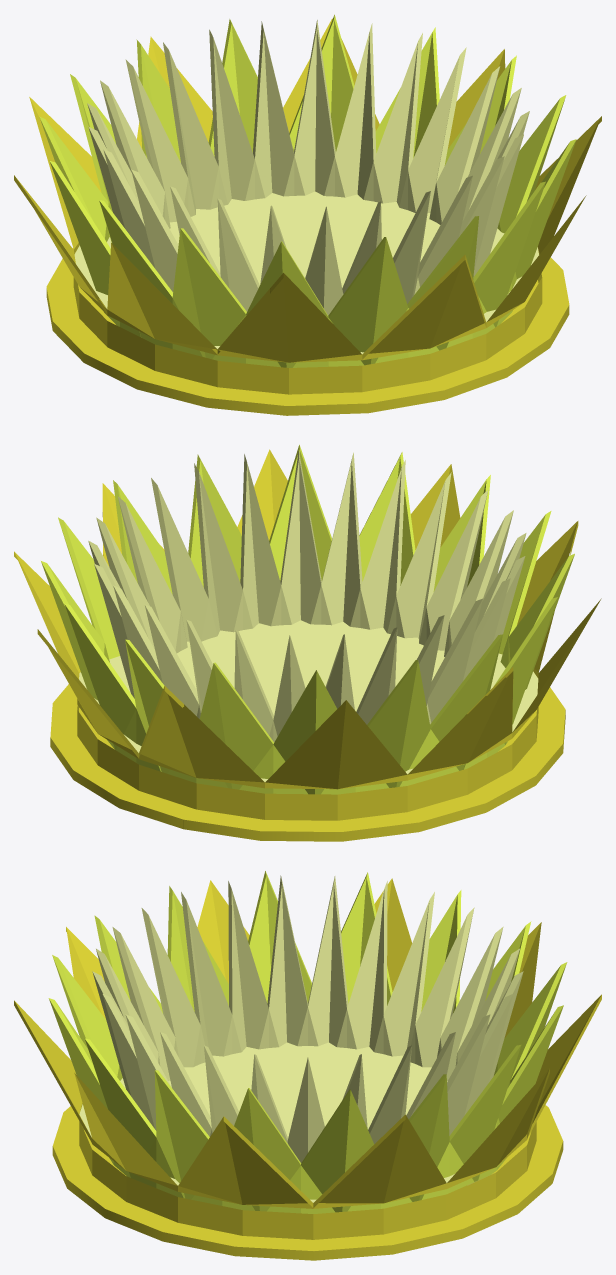
Rendered from portal_abrir_000026.obj.
3 renders of one model, top to bottom at view 1: azimuth 30°, elevation 25°; view 2: azimuth 150°, elevation 25°; view 3: azimuth 270°, elevation 25°, orthographic. The views are drawn at different scales.
Parts seen in each view (by area): view 1: pCylinder1, Cylinder.001, Cylinder; view 2: pCylinder1, Cylinder.001, Cylinder; view 3: pCylinder1, Cylinder.001, Cylinder.
Part boxes in pixels (<box>): pCylinder1: <box>14,18,601,415</box>; Cylinder.001: <box>87,20,529,315</box>; Cylinder: <box>39,14,576,367</box>; pCylinder1: <box>14,449,601,841</box>; Cylinder.001: <box>88,450,526,742</box>; Cylinder: <box>41,444,574,794</box>; pCylinder1: <box>14,878,601,1260</box>; Cylinder.001: <box>92,875,523,1162</box>; Cylinder: <box>48,871,567,1213</box>.
Bounding box in the file's own units: 4.74 × 1.74 × 4.94.
4 materials, 4 textured.
